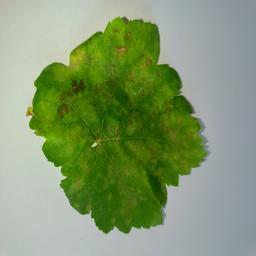Powdery-Mildew: (114, 134, 146, 171), (57, 79, 87, 117), (169, 126, 198, 163), (114, 178, 144, 204), (150, 83, 176, 112), (111, 23, 134, 55), (69, 45, 98, 70), (72, 172, 92, 199), (136, 52, 153, 69), (123, 69, 140, 85), (104, 117, 120, 133)
